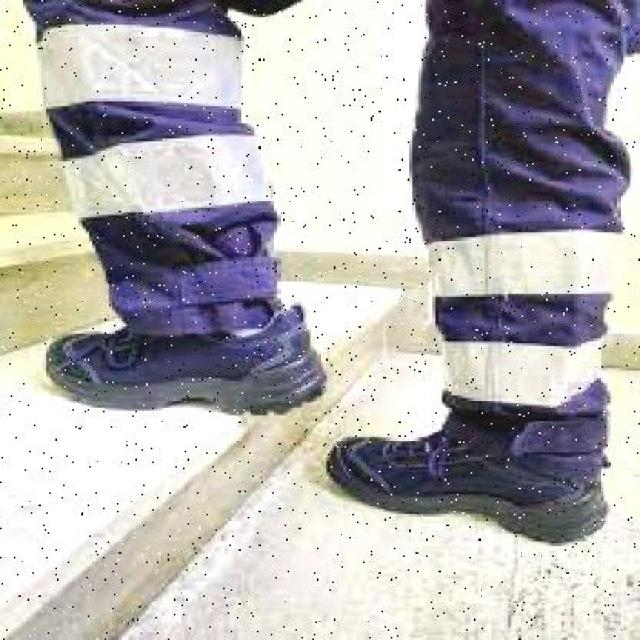shoes: (324, 436, 618, 546), (47, 312, 316, 416)
